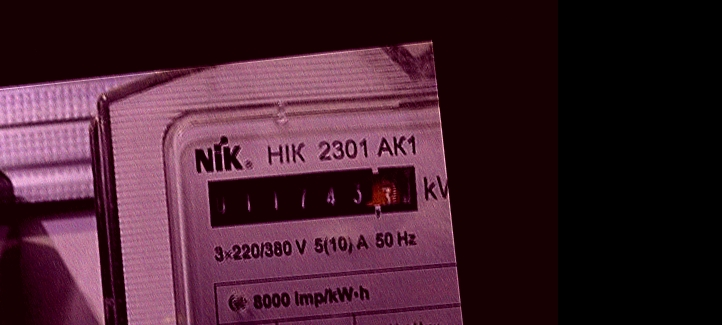0: (213, 187, 230, 216)
1: (240, 185, 257, 214), (268, 183, 284, 212)
3: (349, 178, 366, 206), (379, 184, 396, 207)
4: (323, 182, 340, 208)
7: (295, 183, 312, 209)
screen: (199, 152, 430, 240)
